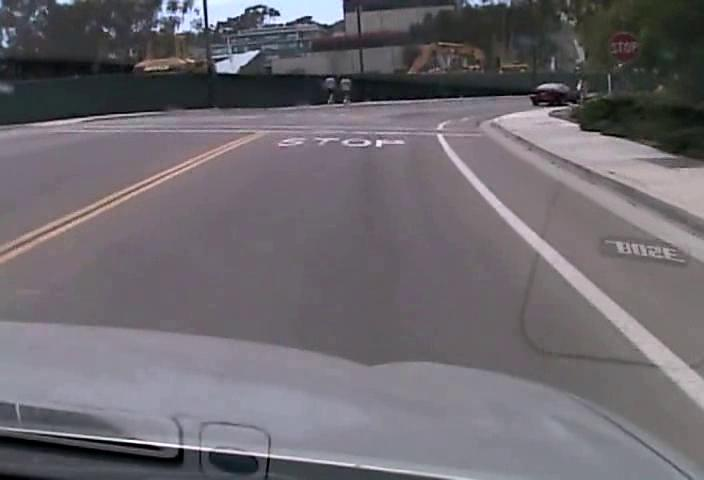stop: (607, 31, 641, 63)
